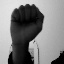a: (9, 3, 44, 41)
